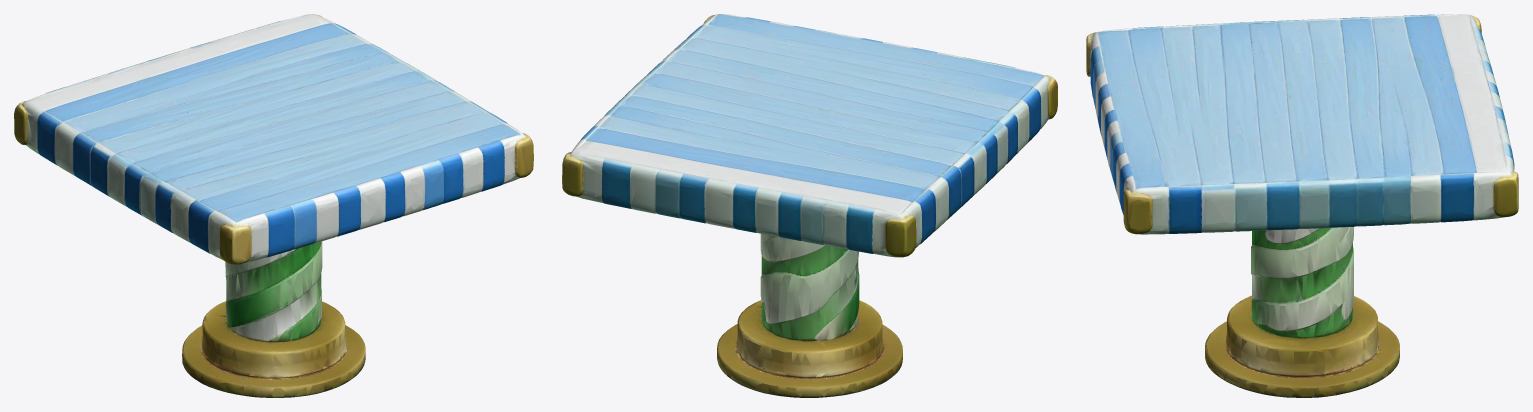
Rendered from platform_3.glb.
3 views of the same model, side by side, from view 1: azimuth 30°, elevation 25°; view 2: azimuth 150°, elevation 25°; view 3: azimuth 270°, elevation 25° (orthographic). The views are drawn at different scales.
Visible parts, largest first — view 1: tripo_node_4c2f73a7-3a69-450c-a746-6cc6455215f4; view 2: tripo_node_4c2f73a7-3a69-450c-a746-6cc6455215f4; view 3: tripo_node_4c2f73a7-3a69-450c-a746-6cc6455215f4.
Part boxes in pixels (x1,y1,x2,y2): tripo_node_4c2f73a7-3a69-450c-a746-6cc6455215f4: (14, 14, 533, 397); tripo_node_4c2f73a7-3a69-450c-a746-6cc6455215f4: (562, 14, 1057, 397); tripo_node_4c2f73a7-3a69-450c-a746-6cc6455215f4: (1086, 14, 1518, 397).
Bounding box in the file's own units: 0.9799 × 0.6414 × 0.9754.
1 material, 1 textured.
